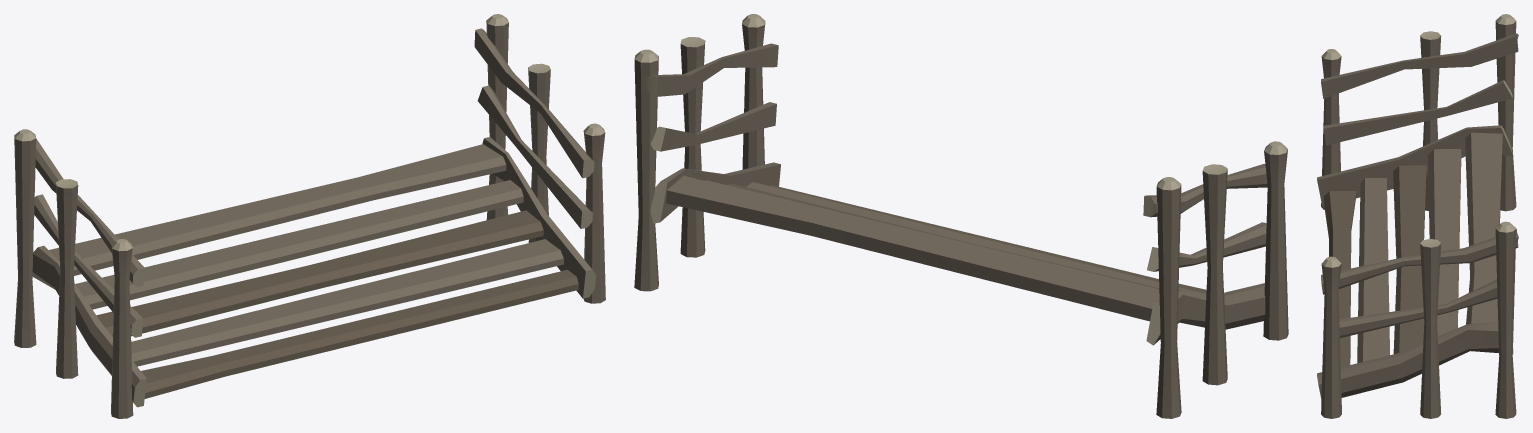
Rendered from _STAIRS_01_1.fbx.
The picture shows the model from 3 angles, left to right: view 1: azimuth 30°, elevation 25°; view 2: azimuth 150°, elevation 25°; view 3: azimuth 270°, elevation 25°; orthographic projection. The views are drawn at different scales.
Parts seen in each view (by area): view 1: STAIRS_01_1; view 2: STAIRS_01_1; view 3: STAIRS_01_1.
Boxes of the visible parts, box(x1,y1,x2,y2) form: STAIRS_01_1: box(14, 14, 605, 418); STAIRS_01_1: box(634, 14, 1288, 418); STAIRS_01_1: box(1317, 14, 1518, 418).
Size of the model in its own units: 264 by 109 by 104.
